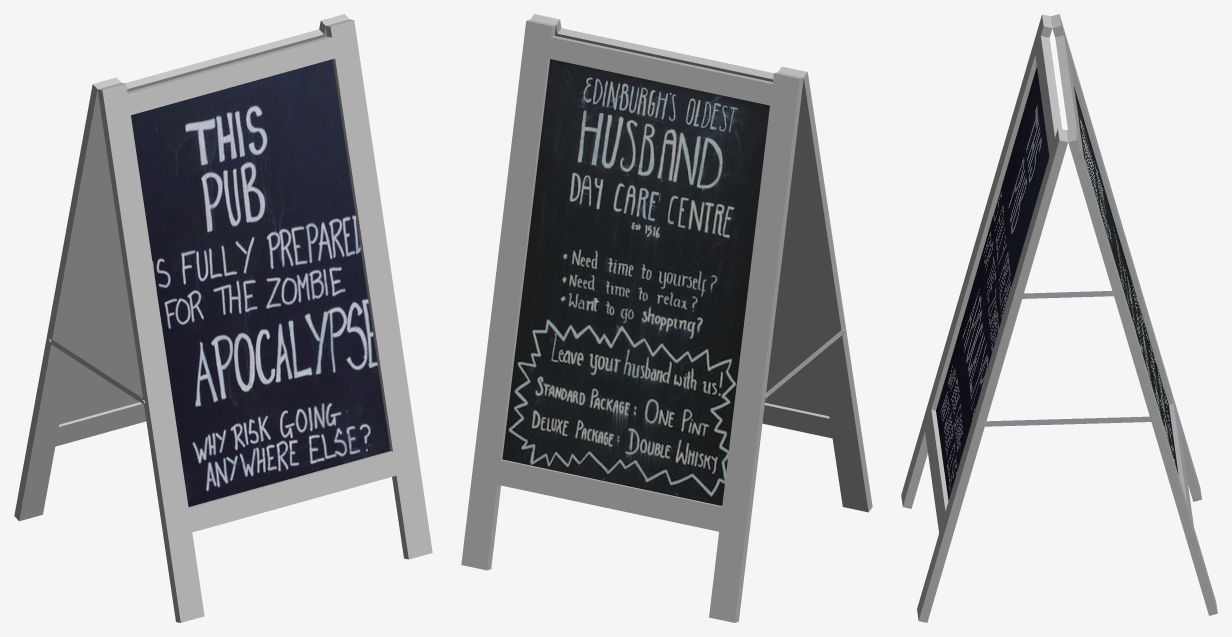
Rendered from SM_Panneau.fbx.
The picture shows the model from 3 angles, left to right: view 1: azimuth 30°, elevation 25°; view 2: azimuth 150°, elevation 25°; view 3: azimuth 270°, elevation 25°; orthographic projection. The views are drawn at different scales.
Parts seen in each view (by area): view 1: Zombie_DaycareLP1; view 2: Zombie_DaycareLP1; view 3: Zombie_DaycareLP1.
Boxes of the visible parts, x1=… form: Zombie_DaycareLP1: x1=14, y1=14, x2=432, y2=622; Zombie_DaycareLP1: x1=461, y1=14, x2=872, y2=622; Zombie_DaycareLP1: x1=901, y1=14, x2=1217, y2=622.
Bounding box in the file's own units: 71.69 × 120 × 71.98.
